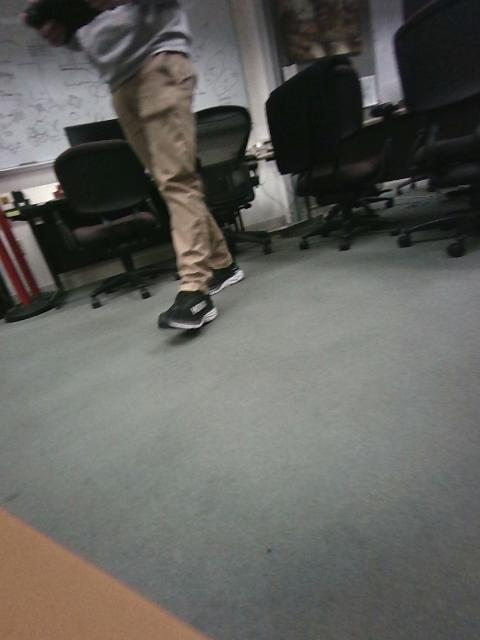block: (241, 275, 280, 319)
